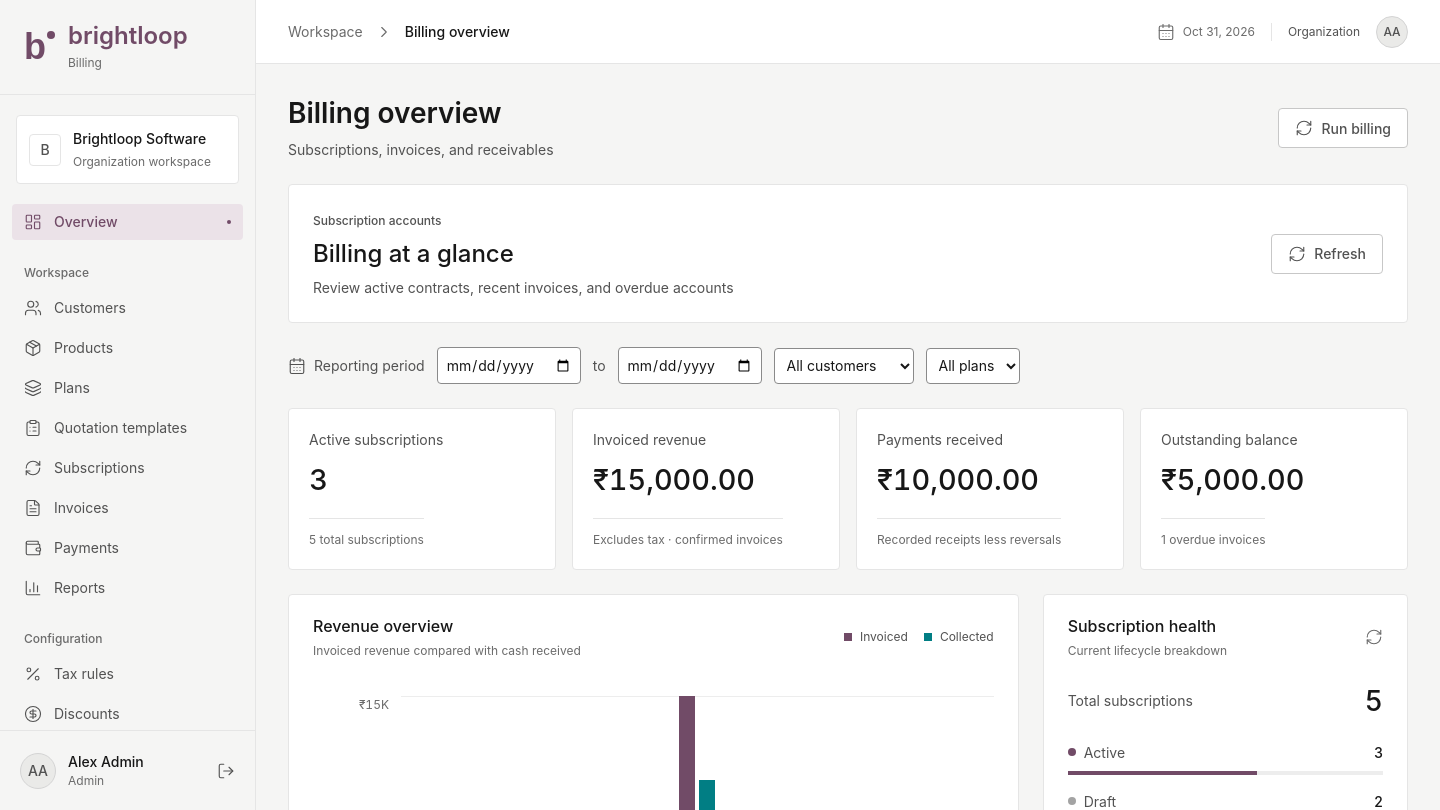
Test: workspace permissions and real mutations › invites an existing customer to their portal without showing credentials
The width and height of the screenshot is (1440, 810).
Click the button "Customers": (128, 308) x1=12 y1=290 x2=243 y2=326
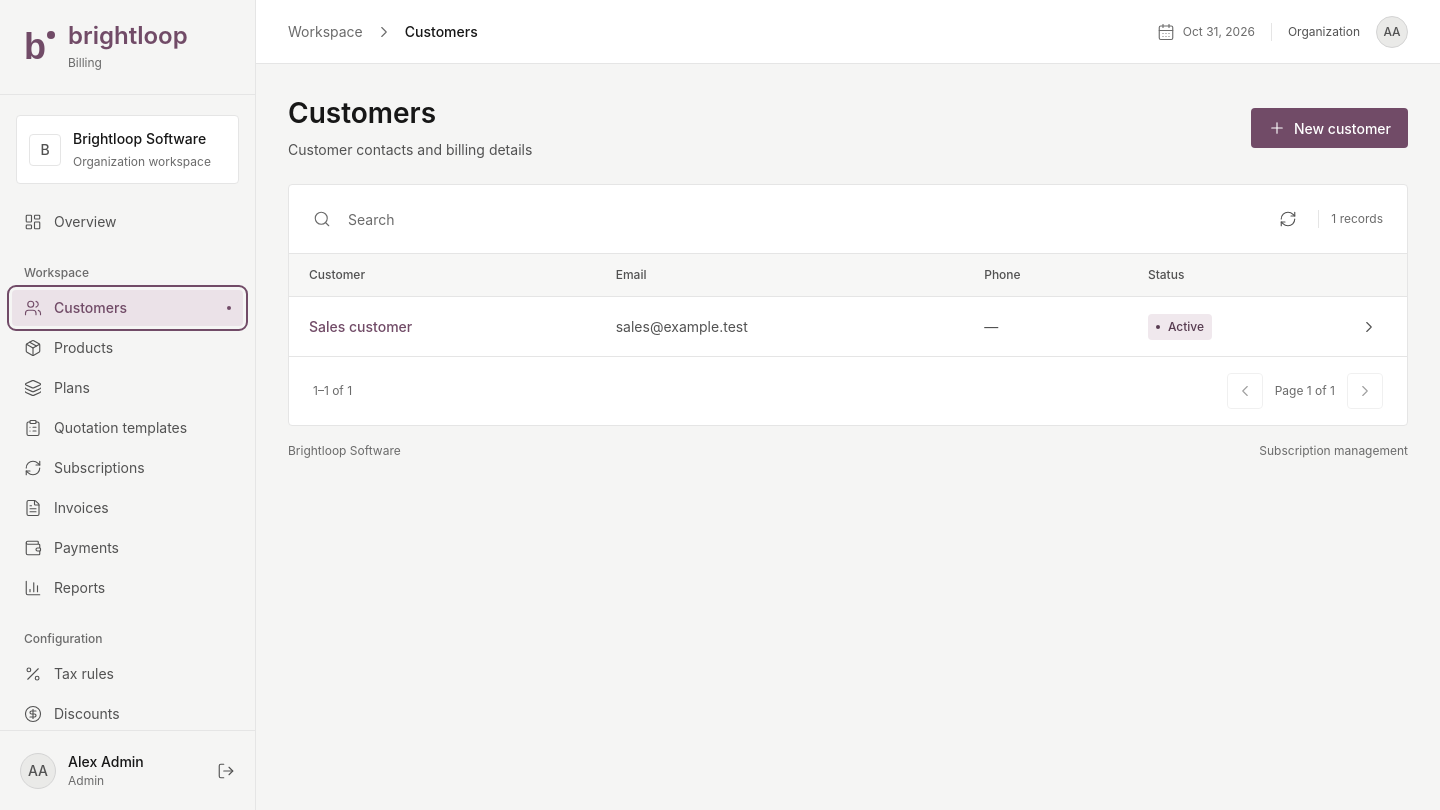
Click the button "Sales customer": (361, 326) x1=309 y1=316 x2=412 y2=337
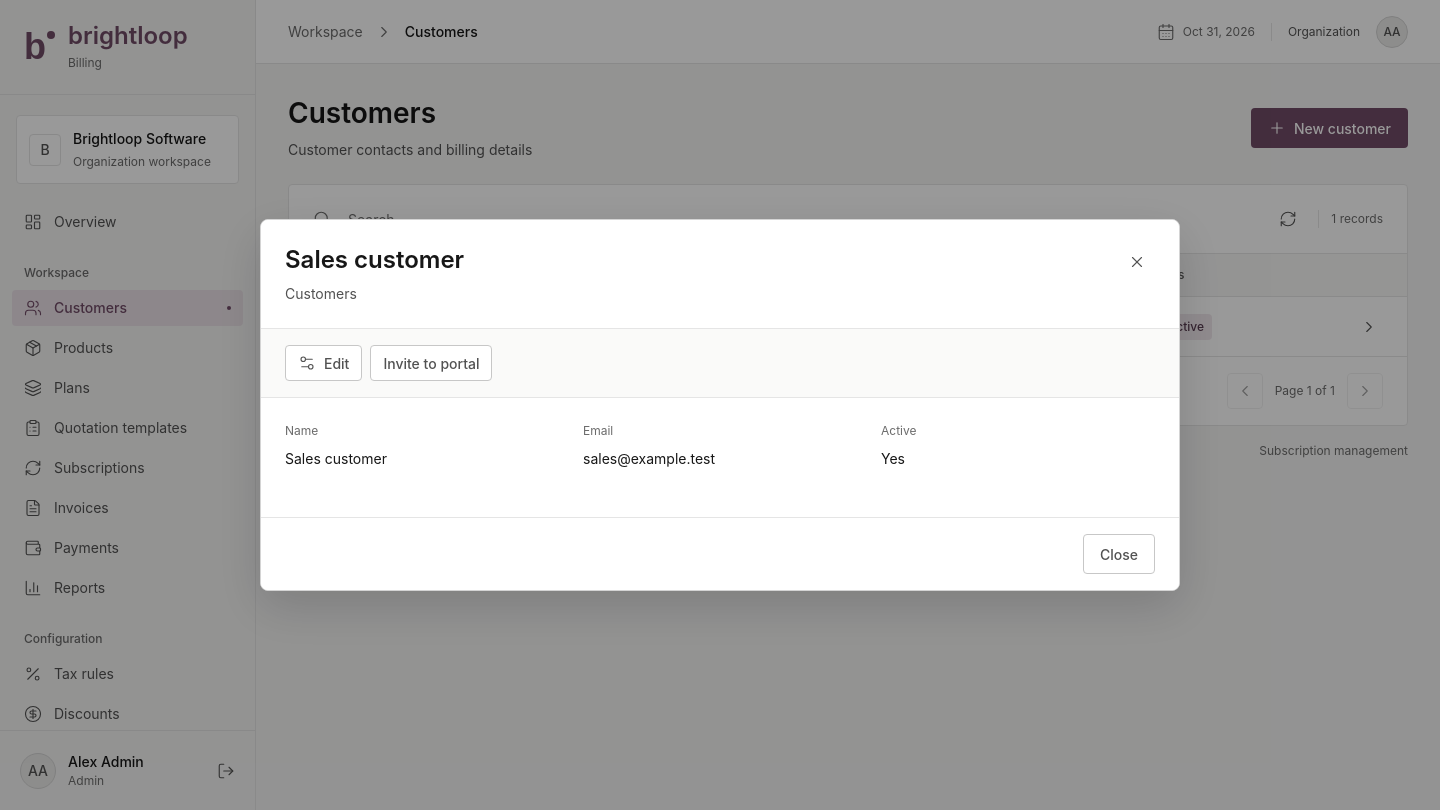
Click the button "Invite to portal": (431, 363) x1=370 y1=345 x2=492 y2=381
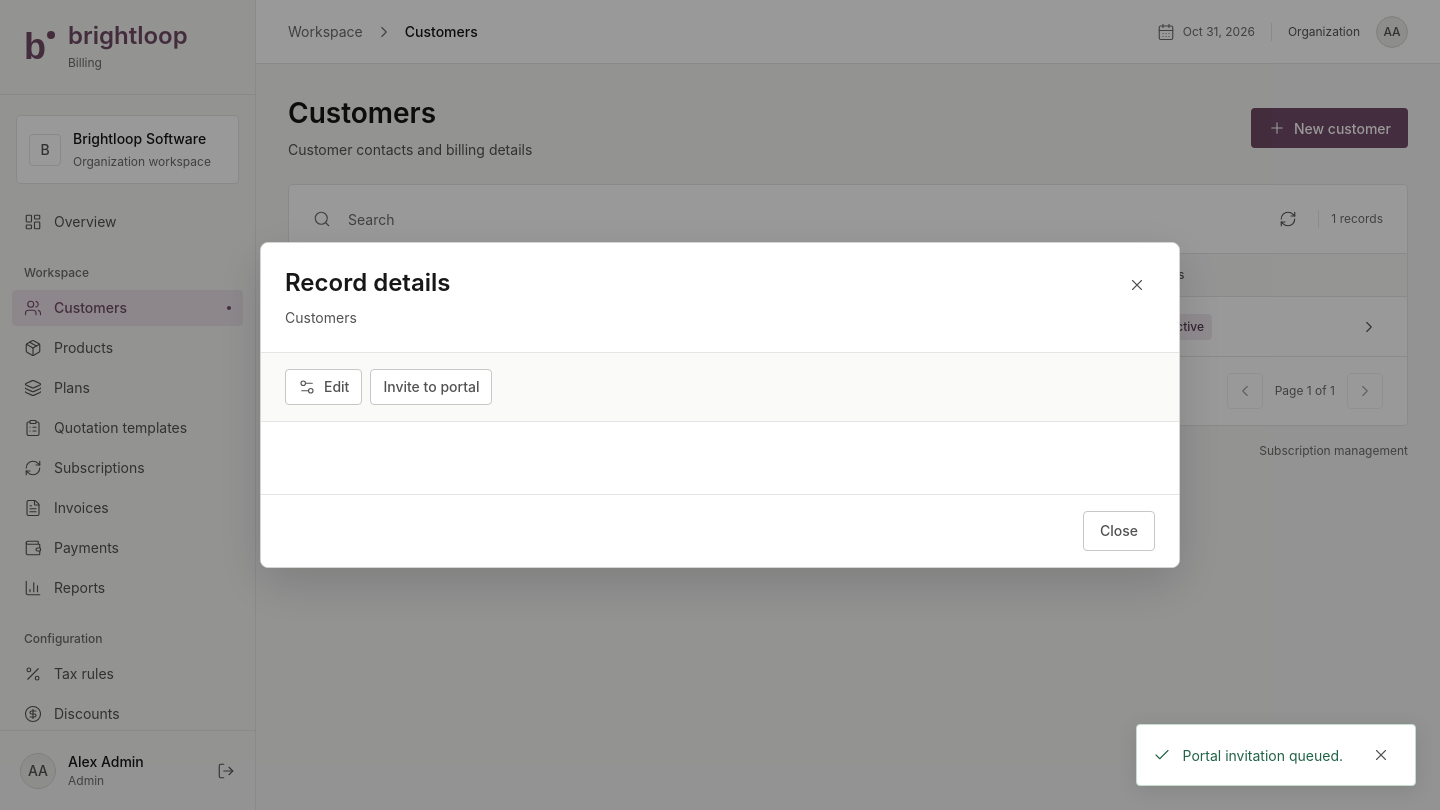
Check: the message reads "Portal invitation queued.", box x1=1182 y1=746 x2=1343 y2=764
